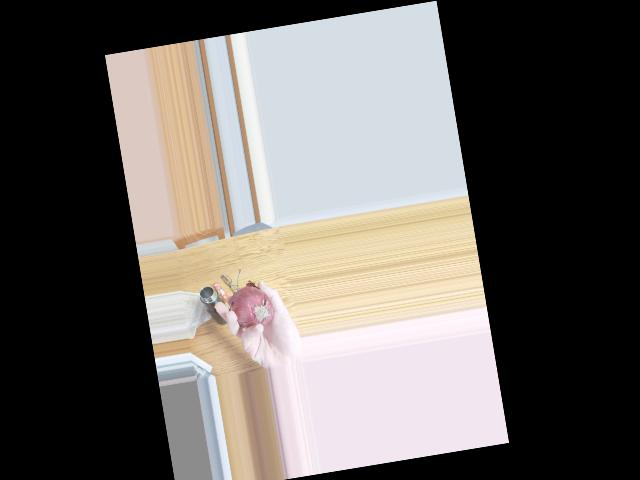onion: (231, 283, 274, 331)
